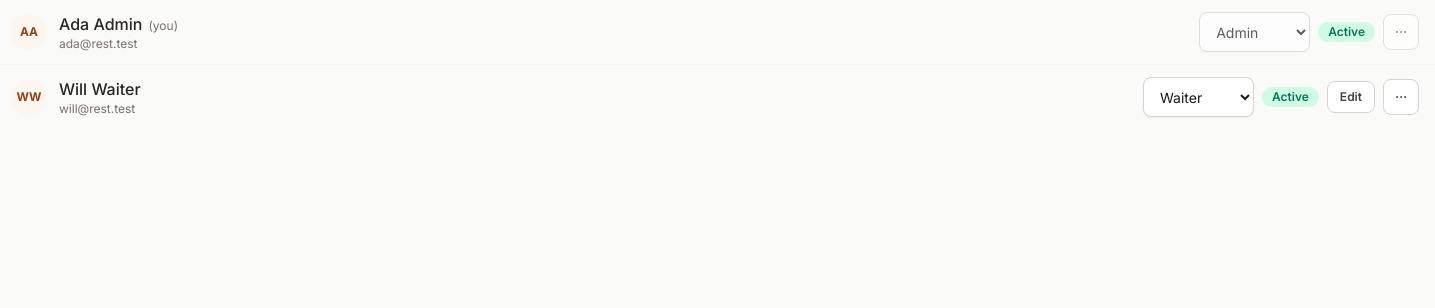
Scenario: AccountTable › opens the More menu accessibly and closes it with Escape
Click the button named "More actions for Will Waiter". click: click(1401, 97)
box: [1383,79,1419,115]
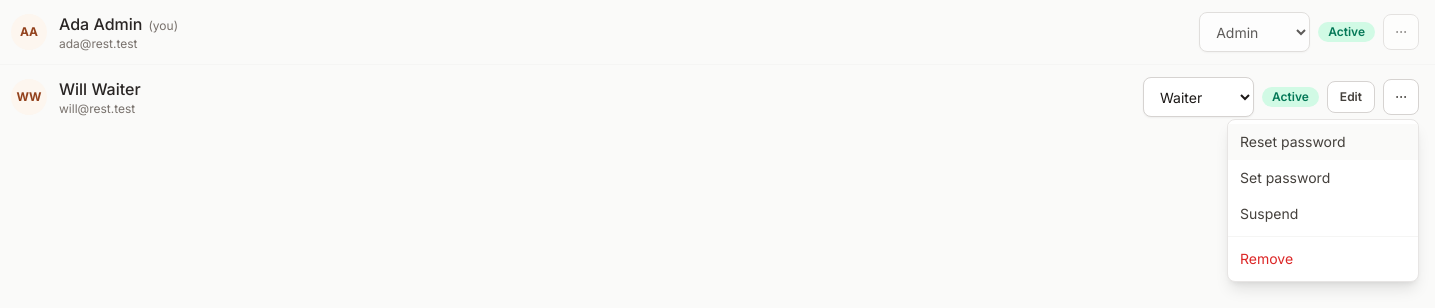
Result: the menu items read "Reset password", "Set password", "Suspend", "Remove", in this order at [1228,124,1418,160]; [1228,160,1418,196]; [1228,196,1418,232]; [1228,241,1418,277]
Press Escape
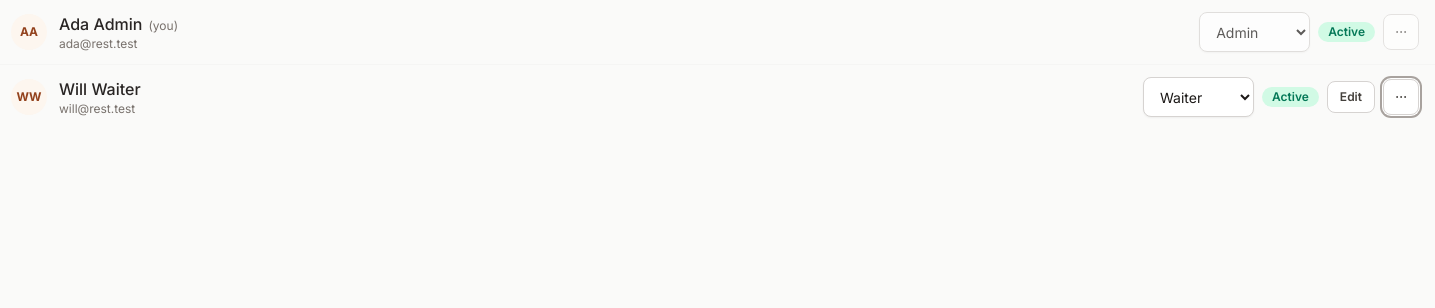
Result: the menu is gone
